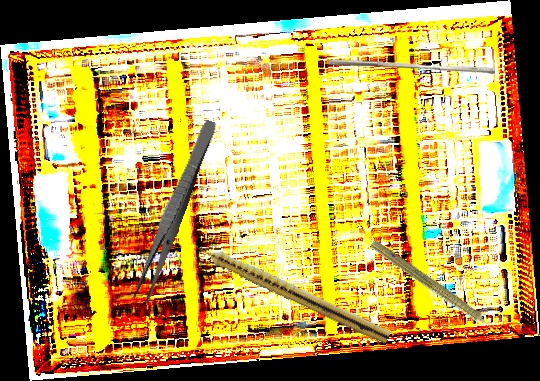Dressing Forceps: (130, 116, 219, 305)
Handpiece: (190, 236, 393, 345), (366, 237, 507, 343)
Pusher: (327, 58, 496, 75)
